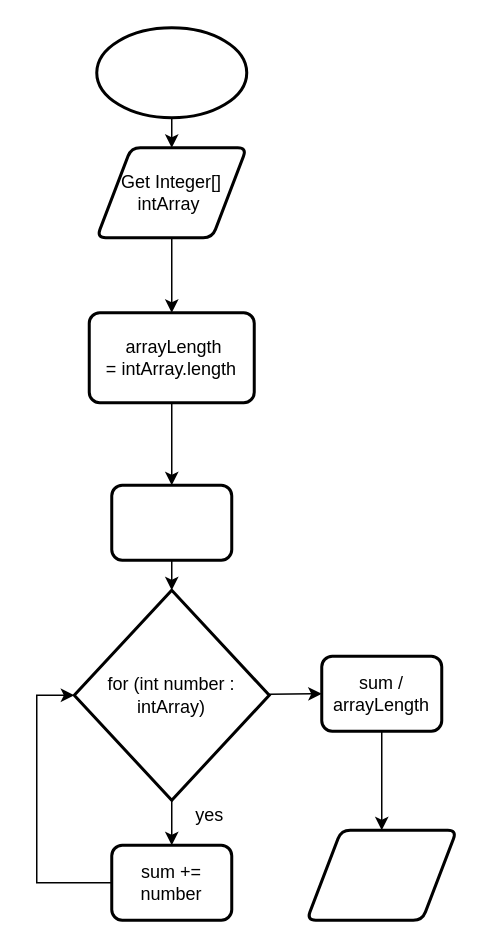
The diagram is 485 pixels wide and 947 high, and some of its shapes have lost their labels. The centre of each missing label's shape, as x and y in pixels:
return mean: [381,874]
Start: [171,72]
sum = 0: [171,522]
